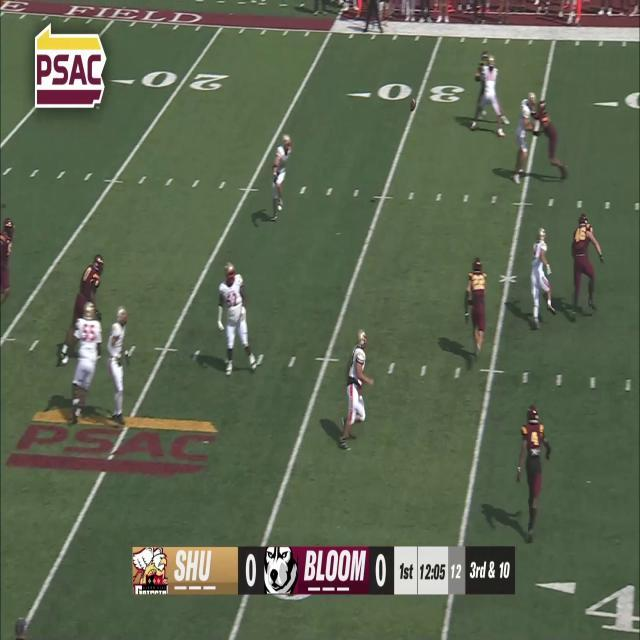football: (409, 98, 416, 112)
